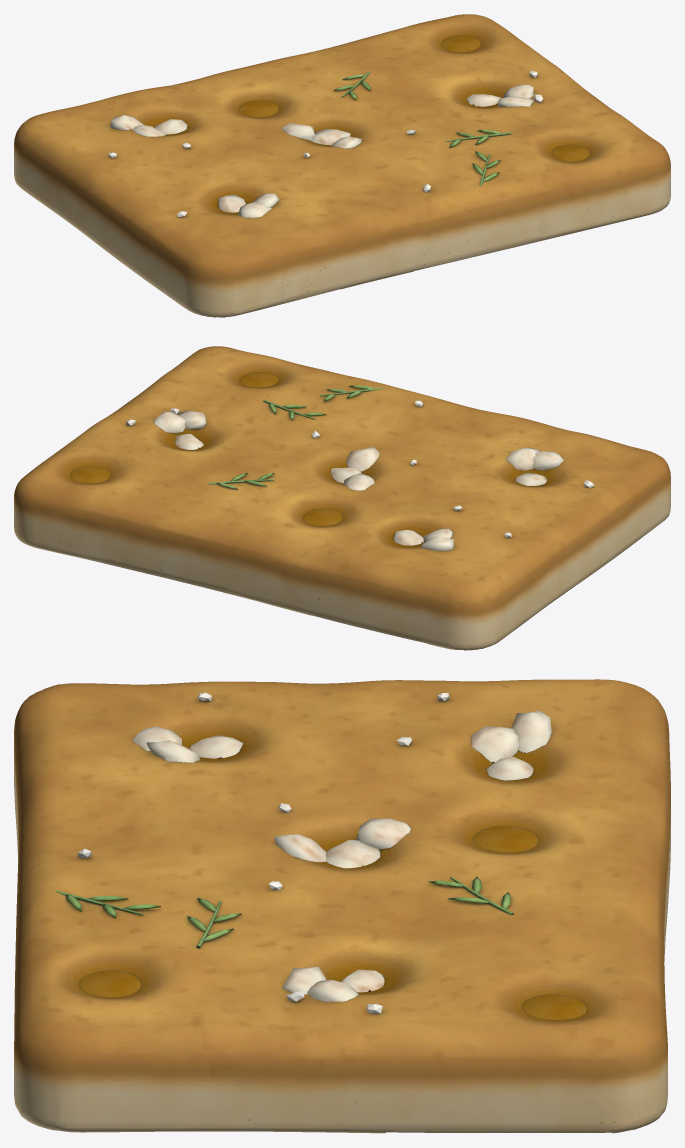
File: focaccia--cheese-crumble.glb
The picture shows the model from 3 angles, top to bottom: view 1: azimuth 30°, elevation 25°; view 2: azimuth 150°, elevation 25°; view 3: azimuth 270°, elevation 25°; orthographic projection. The views are drawn at different scales.
Parts seen in each view (by area): view 1: focaccia_cheese-crumble; view 2: focaccia_cheese-crumble; view 3: focaccia_cheese-crumble.
Part boxes in pixels (left/top/right/bottom): focaccia_cheese-crumble: left=14, top=14, right=670, bottom=317; focaccia_cheese-crumble: left=14, top=346, right=670, bottom=650; focaccia_cheese-crumble: left=14, top=679, right=670, bottom=1133.
Bounding box in the file's own units: 1.01 × 0.1437 × 0.7441.
1 material, 1 textured.
